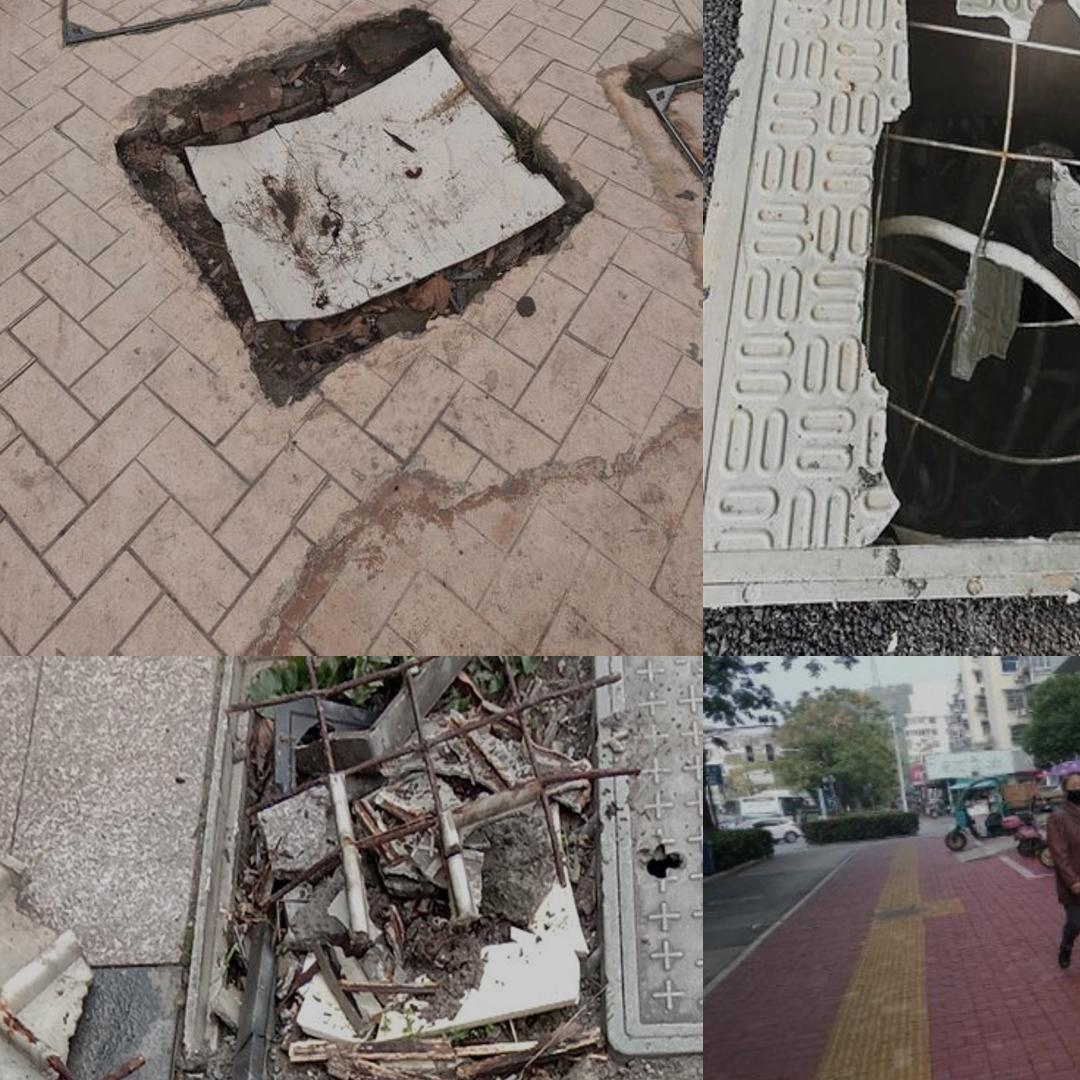broke: (708, 0, 1080, 626), (97, 0, 607, 435), (180, 657, 617, 1071)
